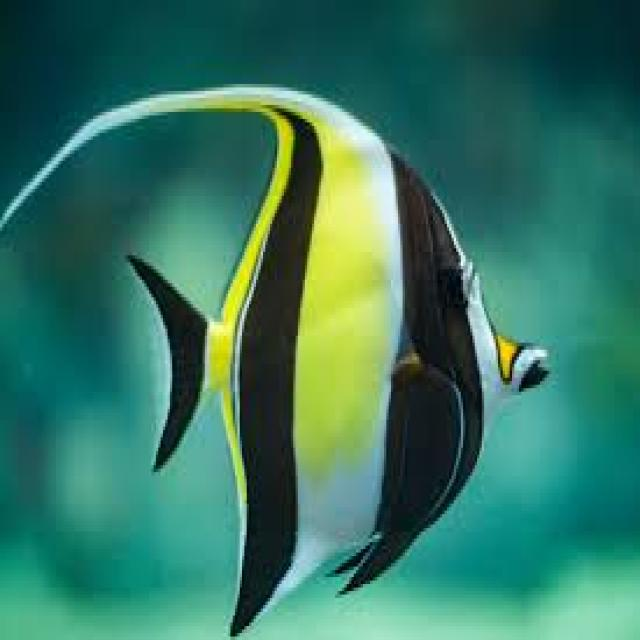MorishIdol: (0, 80, 552, 636)
